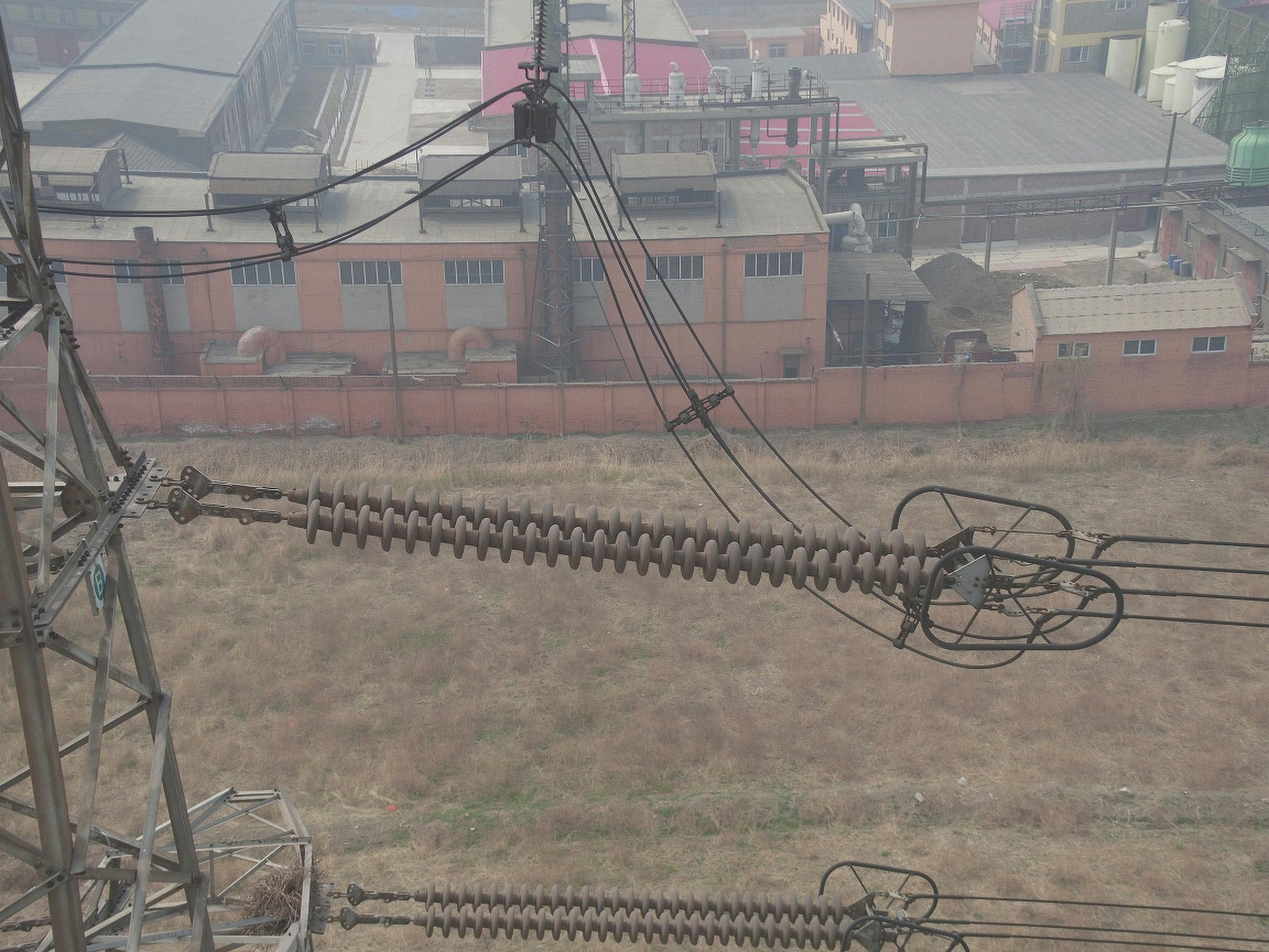insulator: (303, 472, 947, 603), (420, 880, 856, 952)
